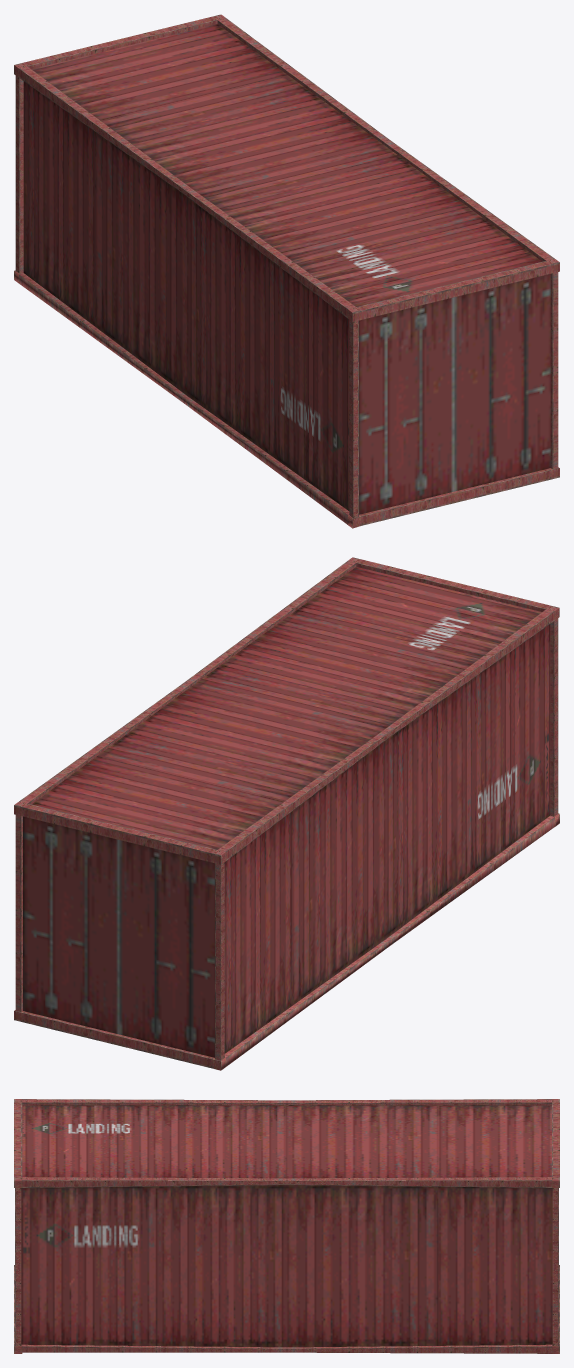
Rendered from containerreda_mobile003_containers_mobile_0_lev1.glb.
3 renders of one model, top to bottom at view 1: azimuth 30°, elevation 25°; view 2: azimuth 150°, elevation 25°; view 3: azimuth 270°, elevation 25°, orthographic. The views are drawn at different scales.
Parts seen in each view (by area): view 1: containerreda_mobile003_containers_mobile_0_lev1; view 2: containerreda_mobile003_containers_mobile_0_lev1; view 3: containerreda_mobile003_containers_mobile_0_lev1.
Boxes of the visible parts, x1=… form: containerreda_mobile003_containers_mobile_0_lev1: x1=14, y1=14, x2=559, y2=528; containerreda_mobile003_containers_mobile_0_lev1: x1=14, y1=557, x2=559, y2=1070; containerreda_mobile003_containers_mobile_0_lev1: x1=14, y1=1099, x2=559, y2=1353.
Bounding box in the file's own units: 1.9 × 1.89 × 5.37.
Materials: 1 (1 with a texture image).
